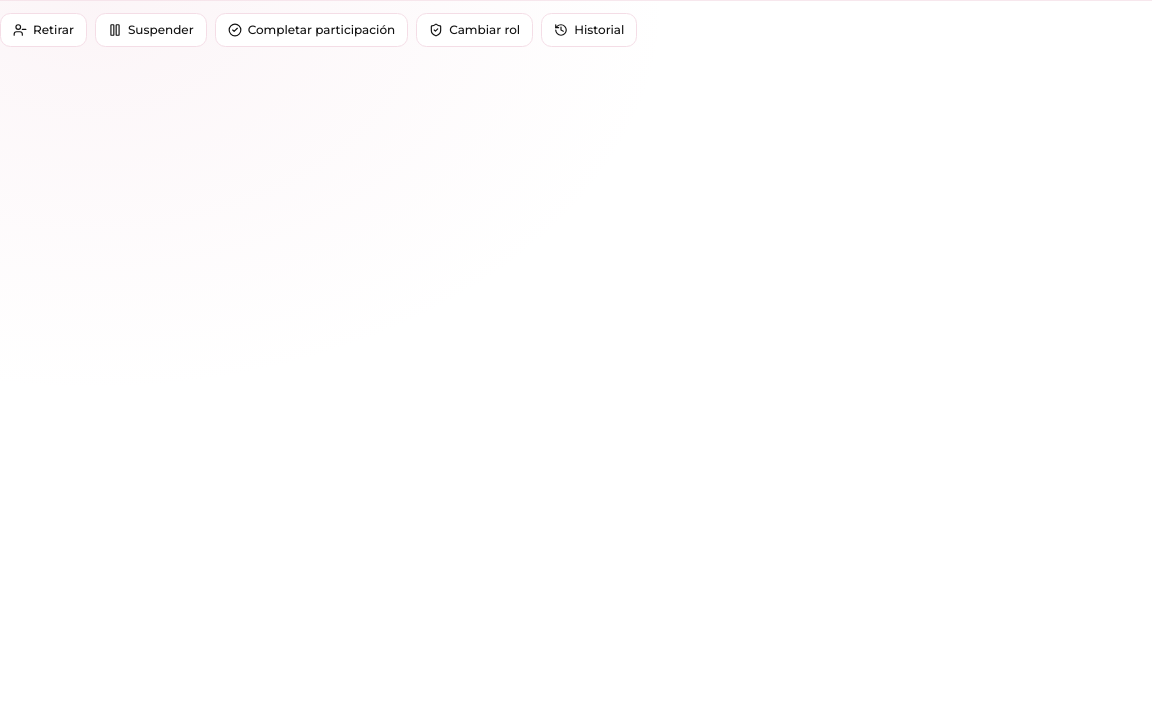
Test: blocks duplicate submission and unsafe retry after a conflict
The image size is (1152, 720).
Click the button "Suspender" at (151, 30), box [95,13,207,47]
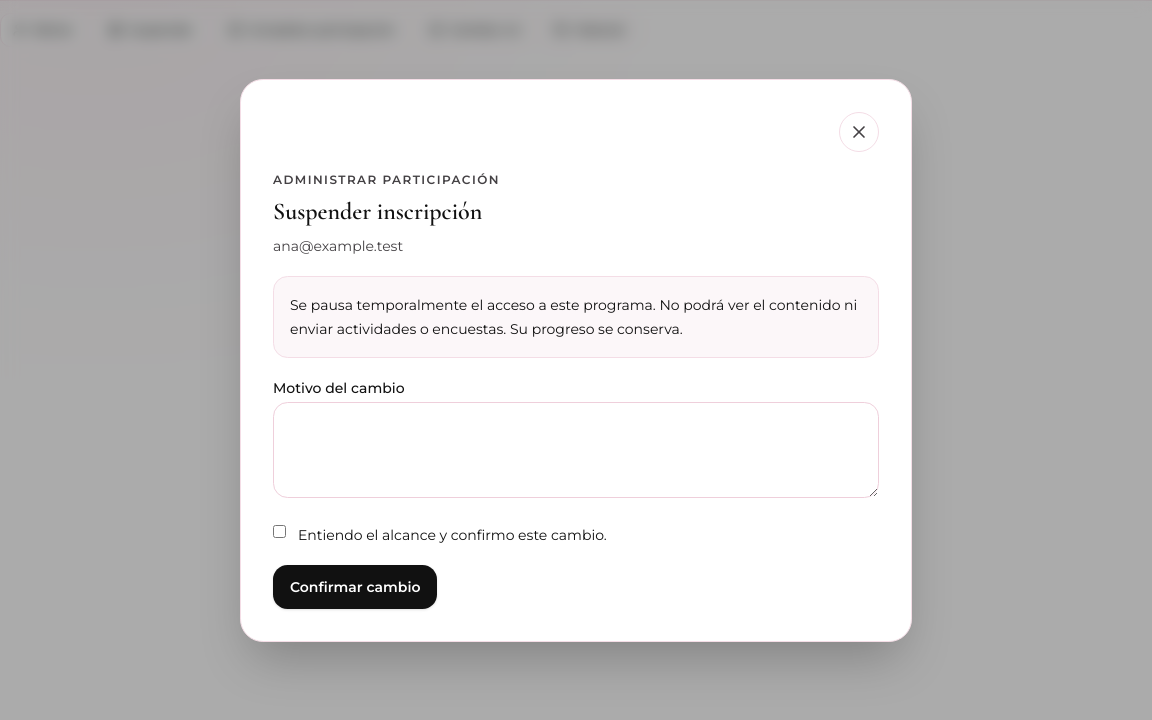
Type "Cambio solicitado" into the text box labelled "Motivo del cambio" at (576, 450), box [273,402,879,498]
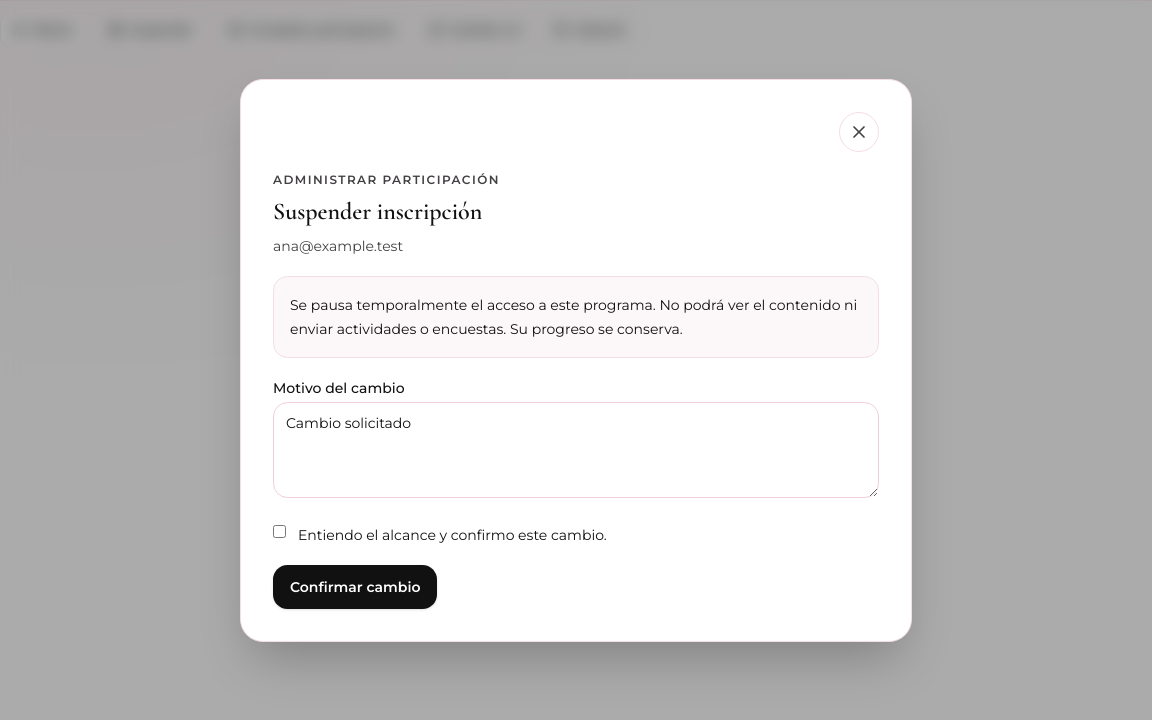
Click the checkbox labelled "Entiendo el alcance y confirmo este cambio." at (280, 531), box [273,524,286,538]
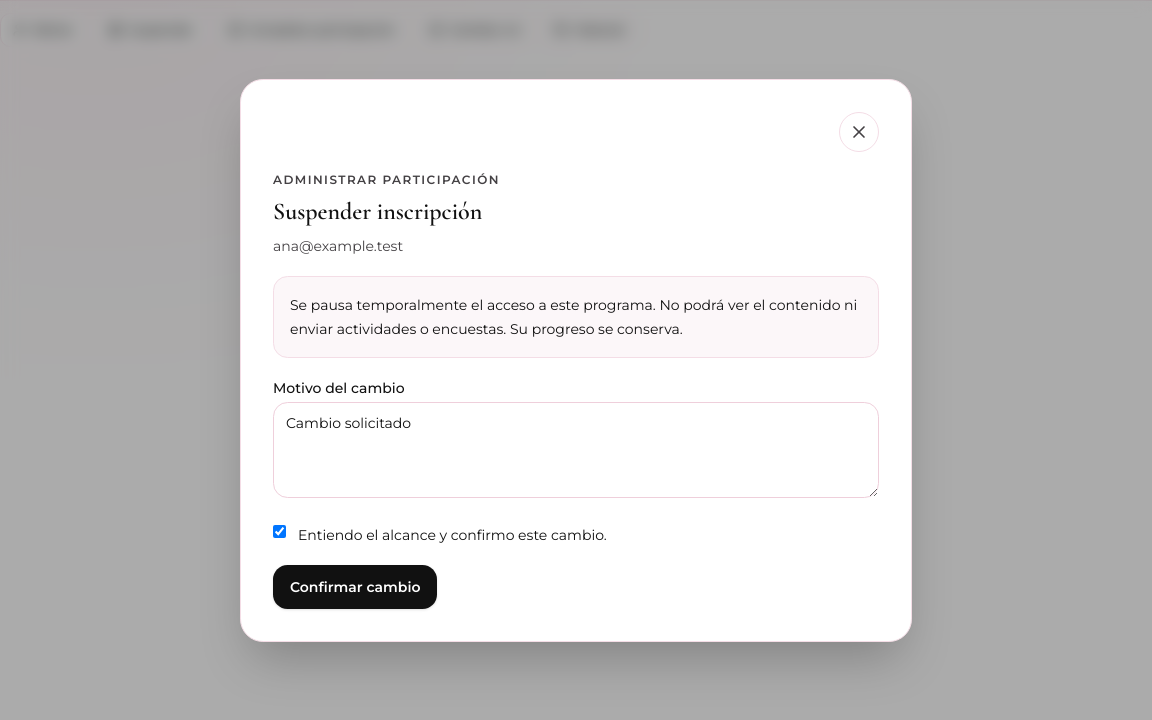
Submit the form, box [273,172,879,608]
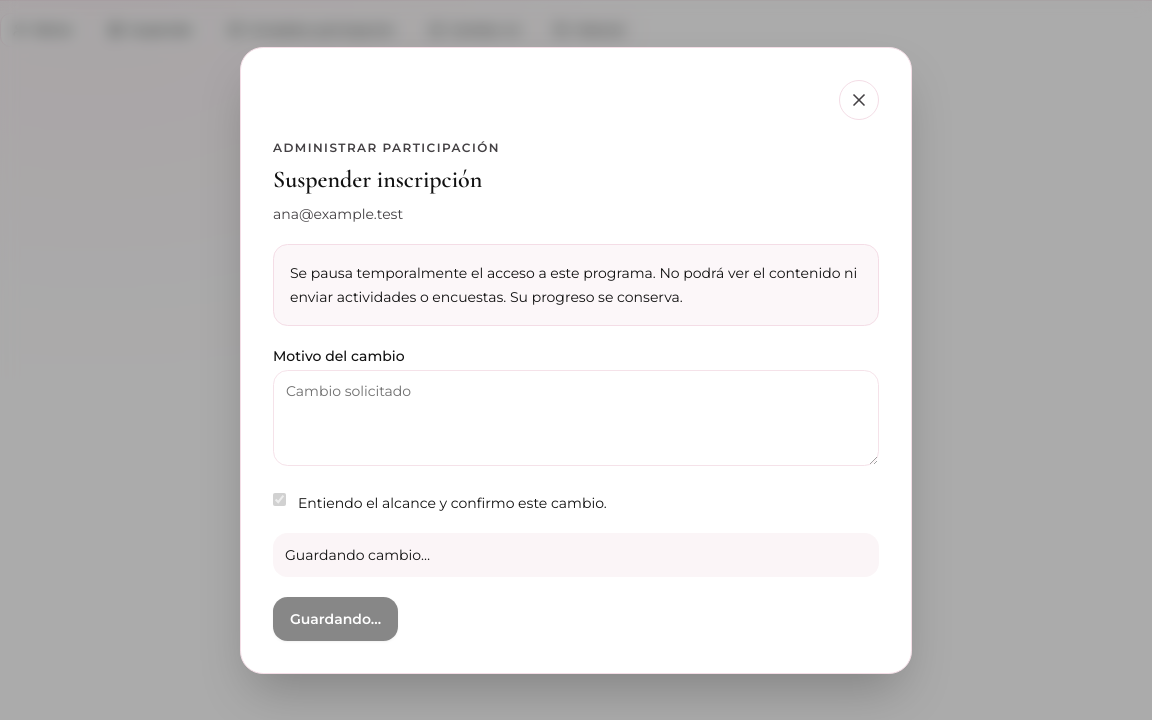
Submit the form, box [273,140,879,640]
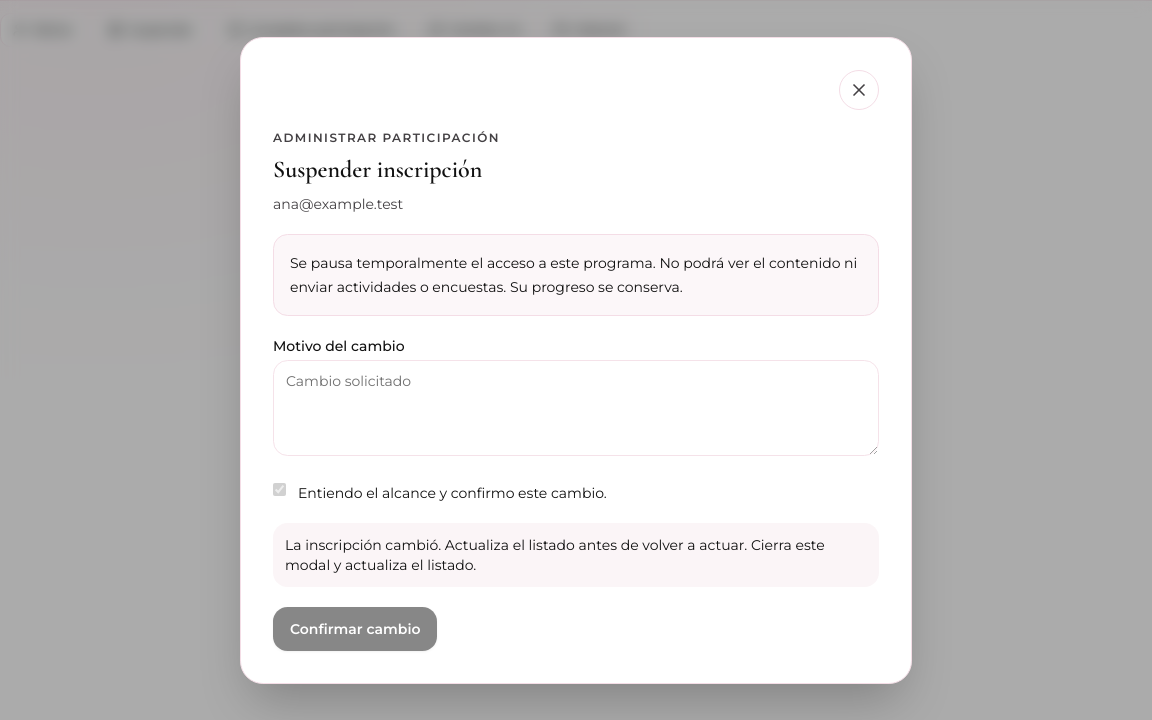
Check: the button "Confirmar cambio" is disabled, box [273,606,438,650]
Check: the message shows "Actualiza el listado", box [285,536,825,574]
